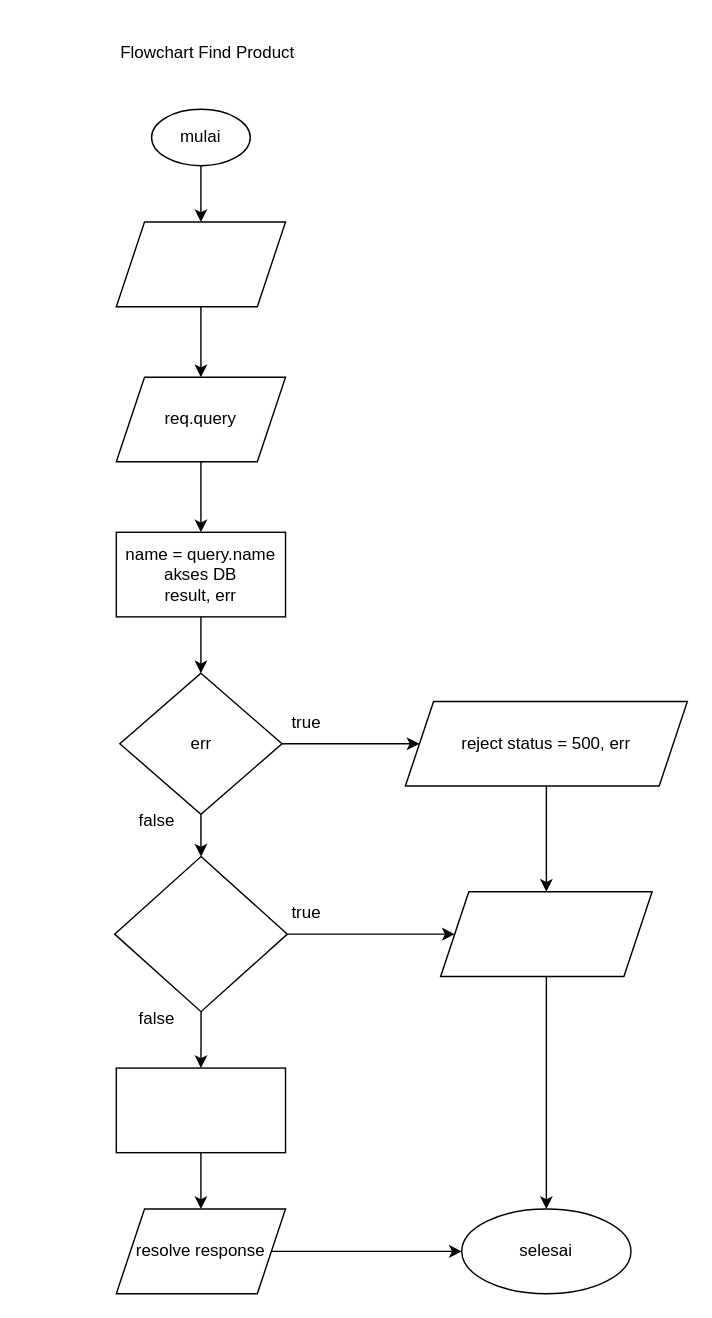
The diagram is 712 pixels wide and 1318 high, and some of its shapes have lost their labels. The shapes that lost their labels are listed below. From the top down, each one's centre as x and y in pixels, then its label:
point 200,264: / method get
point 200,933: result.rows.length ===0
point 545,933: status : 404, err: "Product not pound"
point 200,1110: response = total: resul.rowCount data: result.rows
